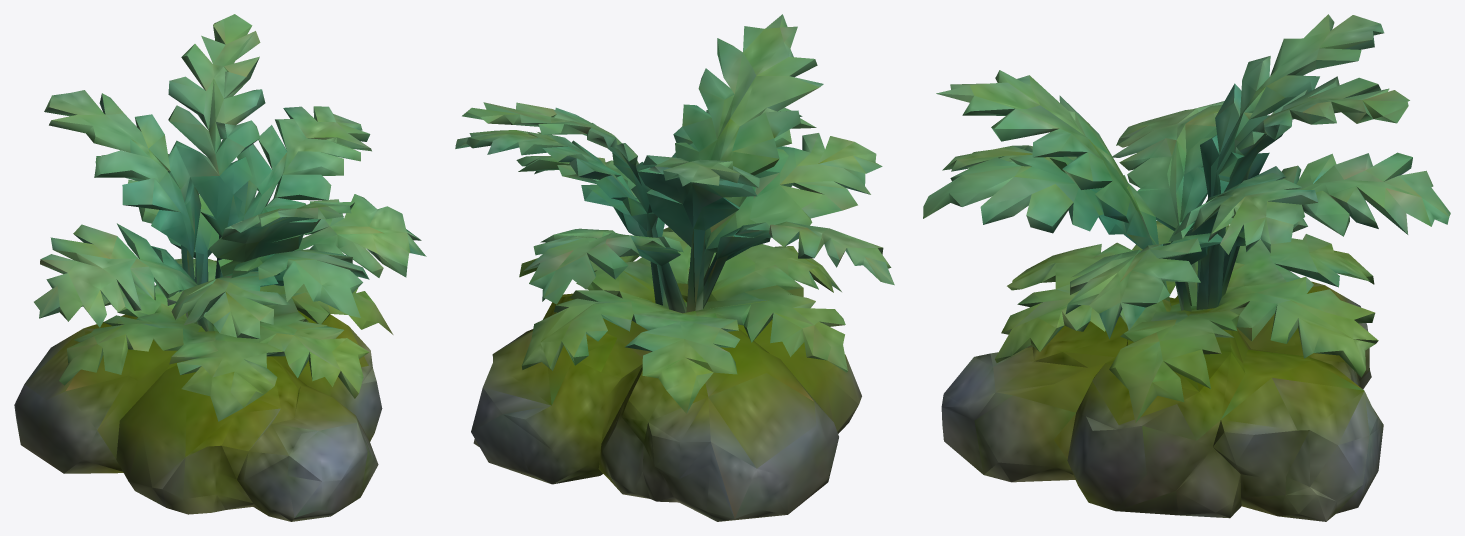
Rendered from helechos_cueva.glb.
3 views of the same model, side by side, from view 1: azimuth 30°, elevation 25°; view 2: azimuth 150°, elevation 25°; view 3: azimuth 270°, elevation 25° (orthographic). The views are drawn at different scales.
Visible parts, largest first — view 1: helechos_cueva_malla; view 2: helechos_cueva_malla; view 3: helechos_cueva_malla.
Part boxes in pixels (x1,y1,x2,y2): helechos_cueva_malla: (14, 14, 426, 521); helechos_cueva_malla: (455, 14, 894, 521); helechos_cueva_malla: (923, 14, 1450, 521).
Size of the model in its own units: 0.1454 by 0.1294 by 0.1544.
Materials: 1 (1 with a texture image).
